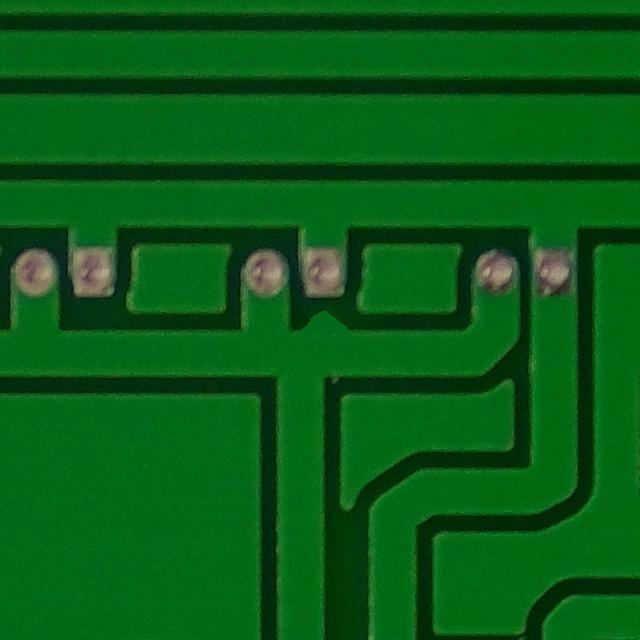spur: (283, 296, 357, 345)
